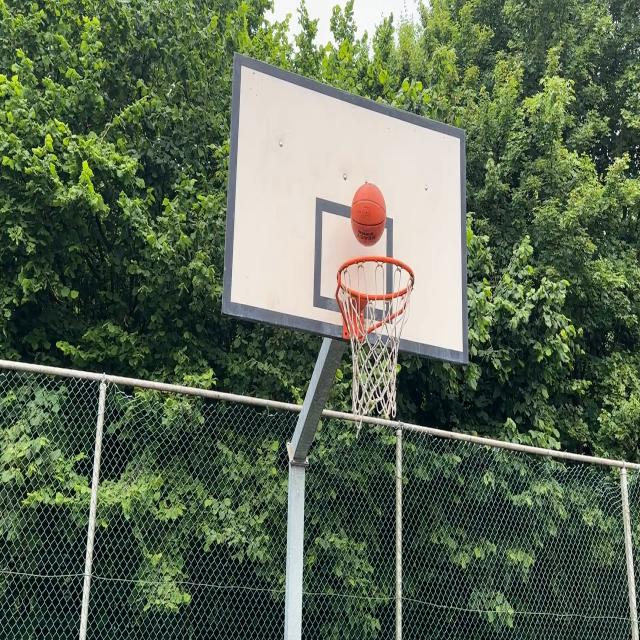Basketball: (350, 182, 386, 246)
